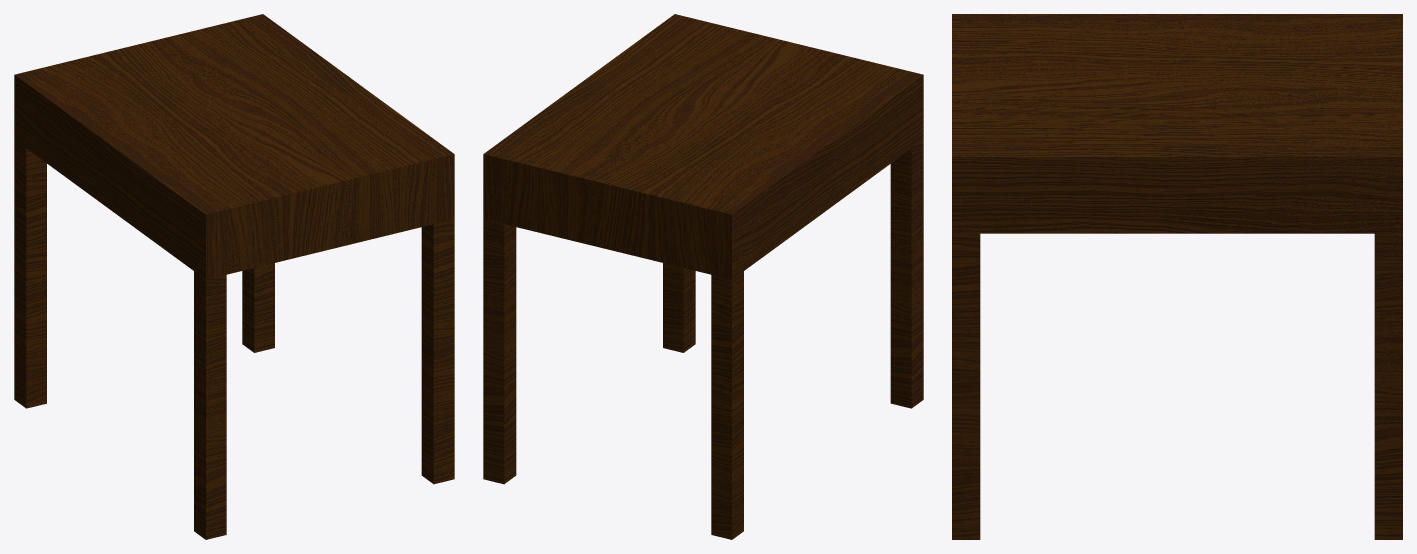
The model's file is table.glb.
The picture shows the model from 3 angles, left to right: view 1: azimuth 30°, elevation 25°; view 2: azimuth 150°, elevation 25°; view 3: azimuth 270°, elevation 25°; orthographic projection. The views are drawn at different scales.
Parts seen in each view (by area): view 1: table; view 2: table; view 3: table.
Part boxes in pixels (x1=…): table: x1=14, y1=14, x2=454, y2=539; table: x1=483, y1=14, x2=923, y2=539; table: x1=952, y1=14, x2=1402, y2=539.
Bounding box in the file's own units: 2.4 × 3 × 3.2.
Materials: 1 (1 with a texture image).
